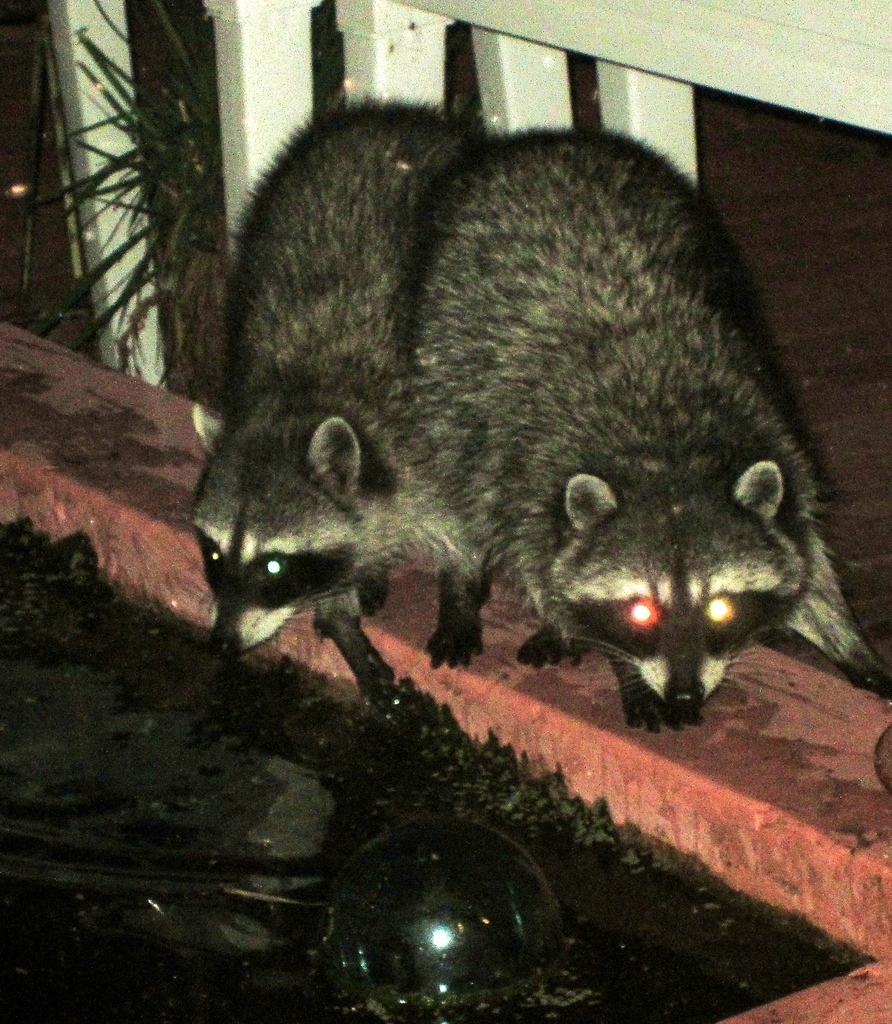raccoon: (402, 122, 892, 732), (192, 97, 503, 714)
